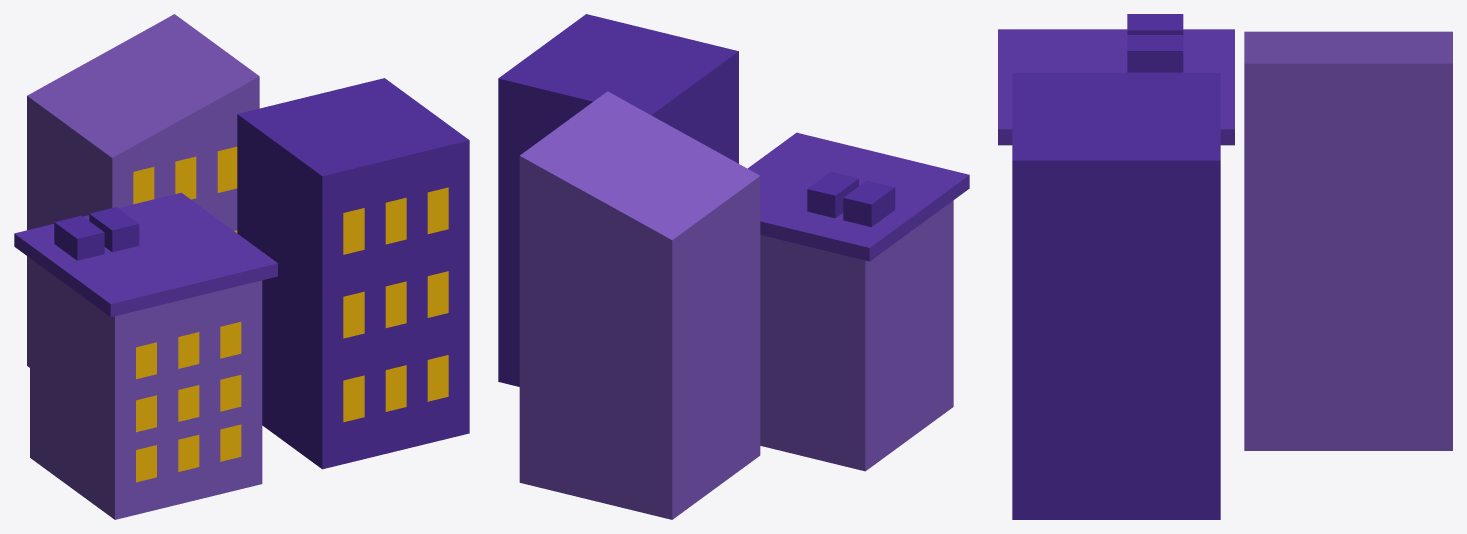
File: cityscape_at_dusk.glb
The picture shows the model from 3 angles, left to right: view 1: azimuth 30°, elevation 25°; view 2: azimuth 150°, elevation 25°; view 3: azimuth 270°, elevation 25°; orthographic projection. The views are drawn at different scales.
Parts seen in each view (by area): view 1: Cube.532; view 2: Cube.532; view 3: Cube.532.
Boxes of the visible parts, x1=… form: Cube.532: x1=14, y1=14, x2=469, y2=519; Cube.532: x1=498, y1=14, x2=969, y2=519; Cube.532: x1=998, y1=14, x2=1452, y2=519.
Size of the model in its own units: 1.98 by 1.64 by 1.74.
1 material, 1 textured.
